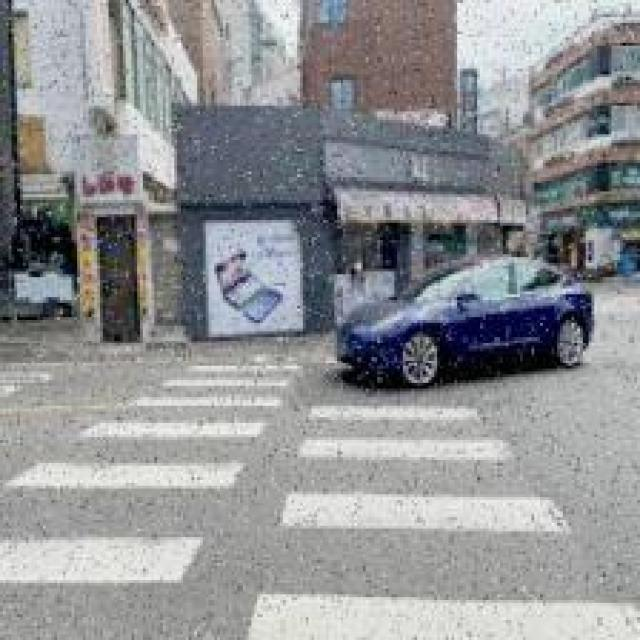crosswalk: (1, 357, 640, 640)
